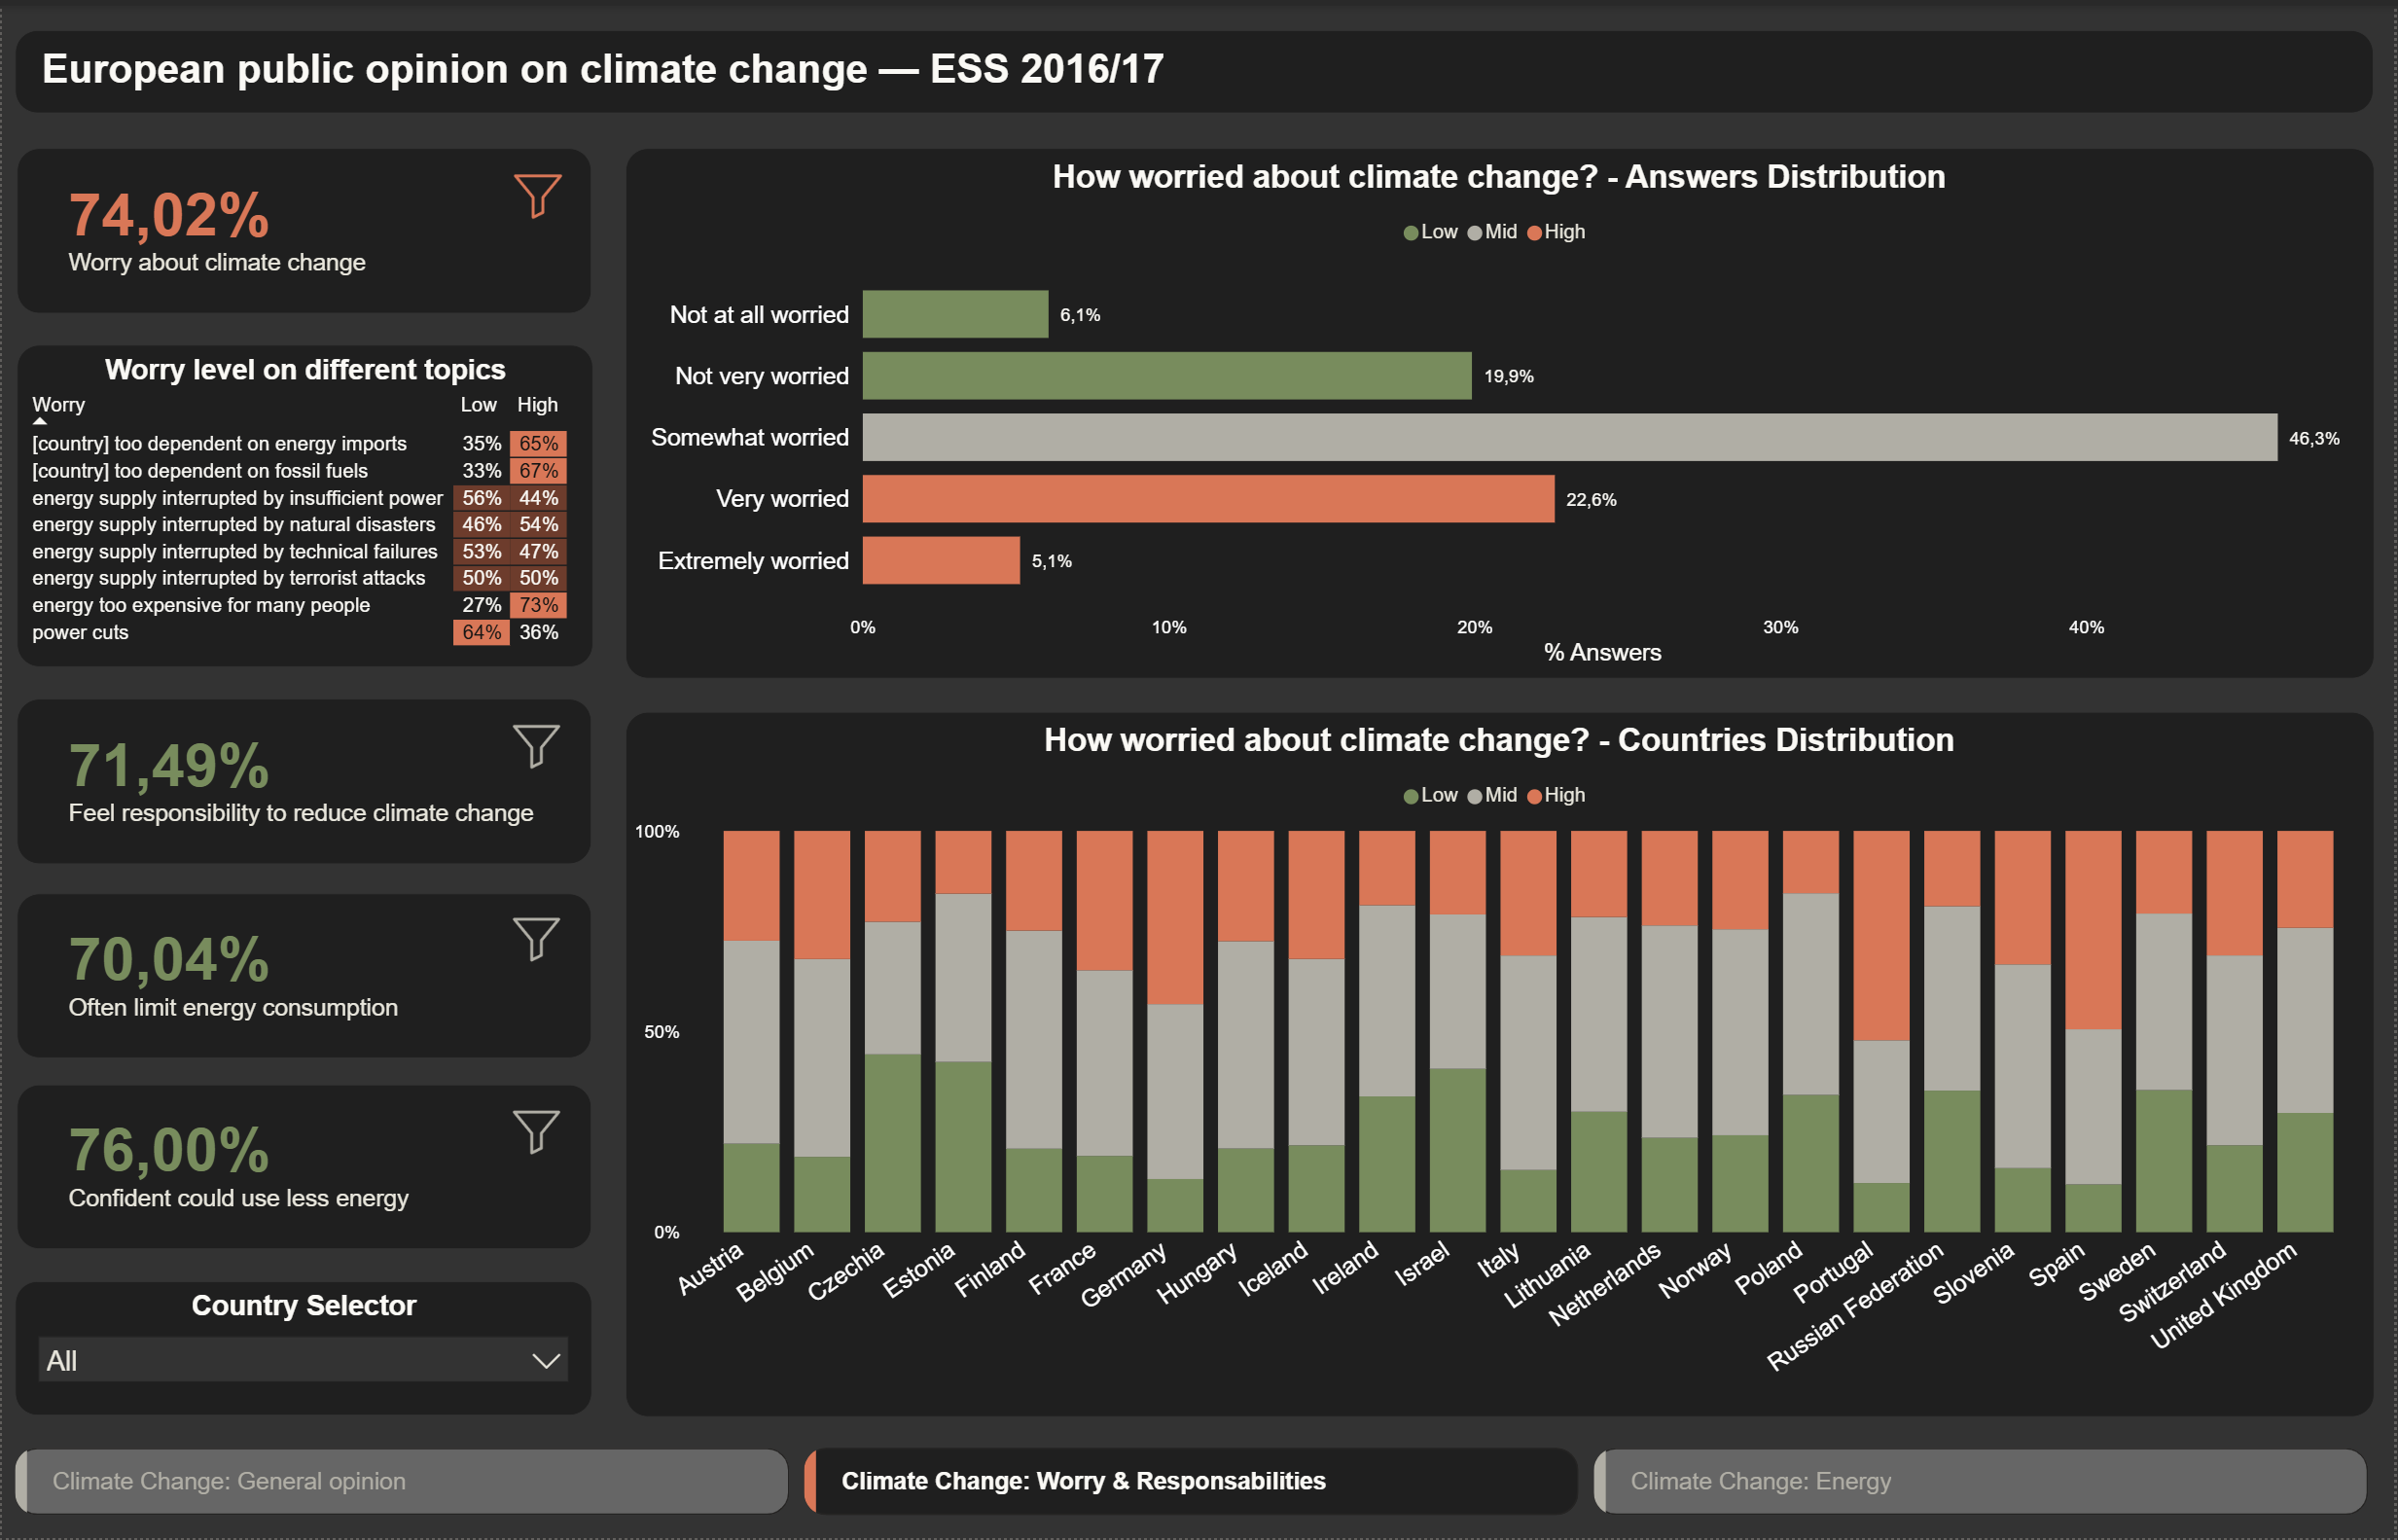

This screenshot's page, from the dashboard's own definition file:
{"tool":"powerbi","page":{"name":"Climate Change: Worry & Responsabilities","canvas":[1600,1025],"ordinal":1},"visuals":[{"type":"cardVisual","fields":{"Data":["_Measures.% Worry about climate change"]},"box":[9.8,95.7,384.5,110.5],"z":0},{"type":"cardVisual","fields":{"Data":["_Measures.% Feel personal responsibility"]},"box":[10,463.2,384.5,110.5],"z":1000},{"type":"cardVisual","fields":{"Data":["_Measures.% Often limit energy consumption"]},"box":[10,593.2,384.3,110],"z":2000},{"type":"cardVisual","fields":{"Data":["_Measures.% Confident could use less energy"]},"box":[10,722.1,384.3,110],"z":3000},{"type":"pageNavigator","box":[8.6,964.3,1575.7,45.7],"z":4000},{"type":"slicer","title":"Country Selector","fields":{"Values":["CountriesList.Country"]},"box":[8.6,853.3,385.7,90],"z":5000},{"type":"hundredPercentStackedColumnChart","title":"How worried about climate change? - Countries Distribution","fields":{"Category":["DiscreteData_1_5.Country"],"Y":["Sum(DiscreteData_1_5.id)"],"Series":["DiscreteData_1_5.AnswerCathegory_3"]},"box":[416.7,471.7,1170,471.7],"z":6000},{"type":"barChart","title":"How worried about climate change? - Answers Distribution","fields":{"Category":["DiscreteData_1_5.AnswerLabel"],"Y":["Sum(DiscreteData_1_5.id)"],"Series":["DiscreteData_1_5.AnswerCathegory_3"]},"box":[416.7,95,1170,355],"z":7000},{"type":"image","title":"Filter Active 1","box":[342.5,111.8,33,32],"z":15000},{"type":"image","title":"Filter Inactive 2","box":[341.1,480.4,33.6,31.8],"z":16000},{"type":"image","title":"Filter Inactive 3","box":[341.1,608.2,33.6,31.8],"z":18000},{"type":"image","title":"Filter Inactive 4","box":[341.1,737.2,33.6,31.8],"z":20000},{"type":"pivotTable","title":"Worry level on different topics","fields":{"Columns":["DiscreteData_1_5.AnswerCathegory"],"Values":["Sum(DiscreteData_1_5.id)"],"Rows":["Variables.Worry"]},"box":[10,226.7,385.6,215.5],"z":22000},{"type":"textbox","box":[8.9,16.7,1577.8,55.6],"z":23000}]}

Visuals, with their boxes in screenshot pixels (x1, y1, x2, y2), scaled from the page's 1600x1025 canvas onto the 2398x1540 screenshot:
cardVisual - _Measures.% Worry about climate change: 15,144,591,309
cardVisual - _Measures.% Feel personal responsibility: 15,696,591,862
cardVisual - _Measures.% Often limit energy consumption: 15,891,591,1057
cardVisual - _Measures.% Confident could use less energy: 15,1085,591,1250
pageNavigator: 13,1449,2375,1518
"Country Selector" slicer: 13,1282,591,1417
"How worried about climate change? - Countries Distribution" hundredPercentStackedColumnChart: 625,708,2379,1417
"How worried about climate change? - Answers Distribution" barChart: 625,143,2379,676
"Filter Active 1" image: 514,168,563,216
"Filter Inactive 2" image: 512,722,561,770
"Filter Inactive 3" image: 512,913,561,961
"Filter Inactive 4" image: 512,1108,561,1156
"Worry level on different topics" pivotTable: 15,340,592,664
textbox: 14,25,2379,109
